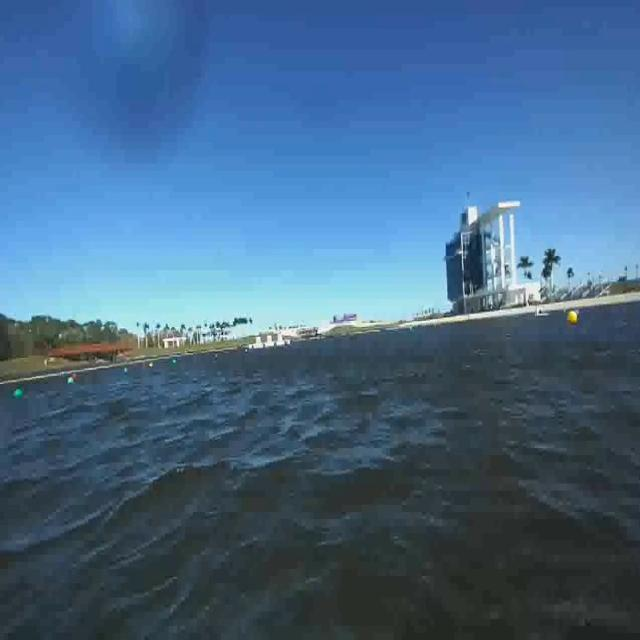yellow-buoy: (568, 310, 578, 326)
